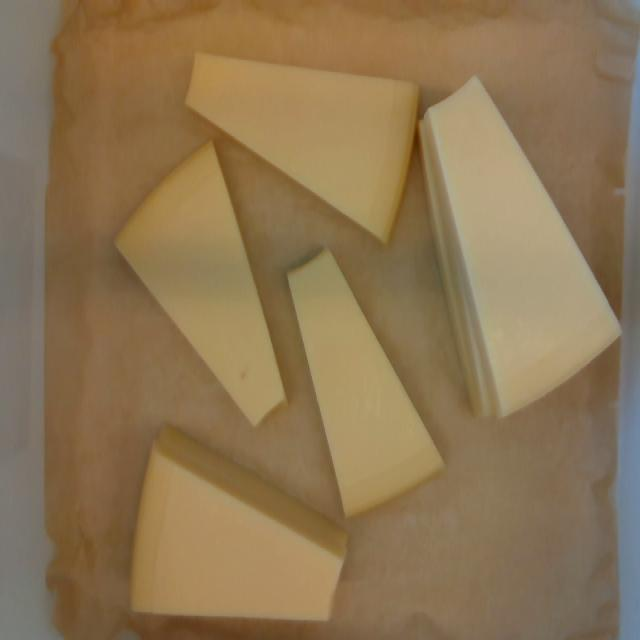Cheese: (429, 80, 620, 415), (116, 143, 285, 424), (186, 55, 418, 239), (289, 251, 442, 517), (132, 445, 344, 619)
